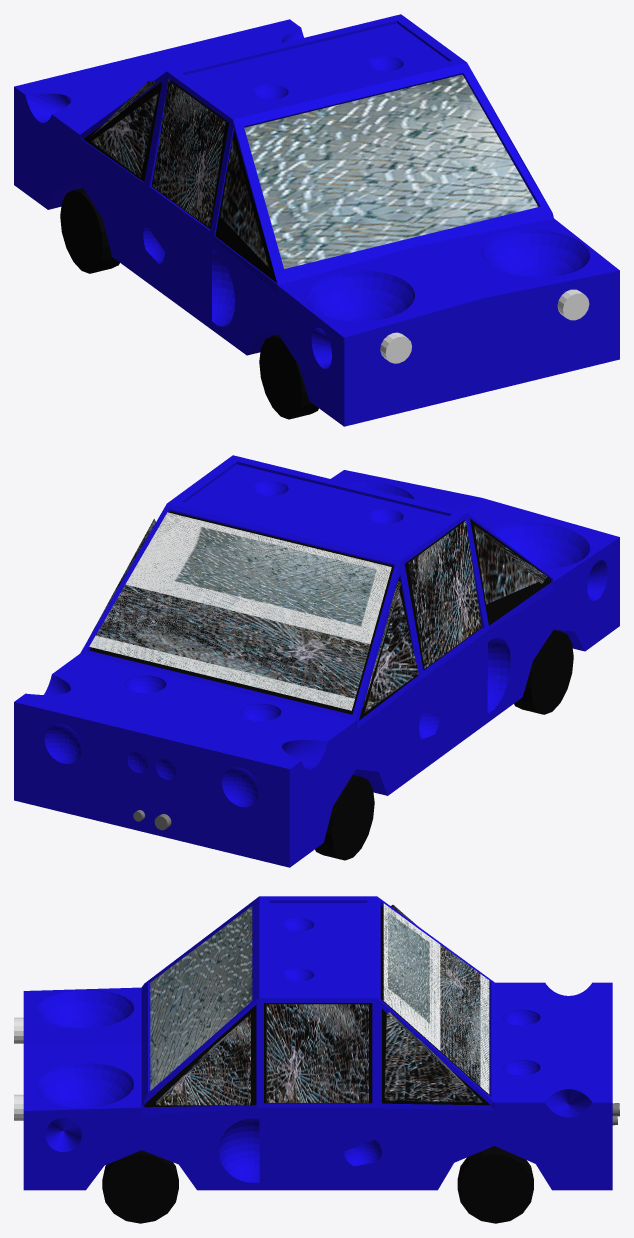
Rendered from CarBlueStage3.fbx.
3 renders of one model, top to bottom at view 1: azimuth 30°, elevation 25°; view 2: azimuth 150°, elevation 25°; view 3: azimuth 270°, elevation 25°, orthographic. The views are drawn at different scales.
Parts seen in each view (by area): view 1: Car, Vooruit kapot, wheels, Headlights; view 2: Car, Vooruit kapot, wheels; view 3: Car, Vooruit kapot, wheels, Headlights.
Part boxes in pixels (x1=…): Car: x1=14, y1=14, x2=619, y2=426; Vooruit kapot: x1=90, y1=74, x2=538, y2=268; wheels: x1=60, y1=188, x2=318, y2=419; Headlights: x1=380, y1=289, x2=589, y2=363; Car: x1=14, y1=455, x2=619, y2=867; Vooruit kapot: x1=89, y1=512, x2=547, y2=712; wheels: x1=315, y1=629, x2=573, y2=860; Car: x1=23, y1=896, x2=612, y2=1190; Vooruit kapot: x1=150, y1=903, x2=489, y2=1105; wheels: x1=102, y1=1146, x2=533, y2=1223; Headlights: x1=14, y1=1017, x2=23, y2=1120.
Bounding box in the file's own units: 502 × 415 × 1049.
13 materials, 8 textured.
